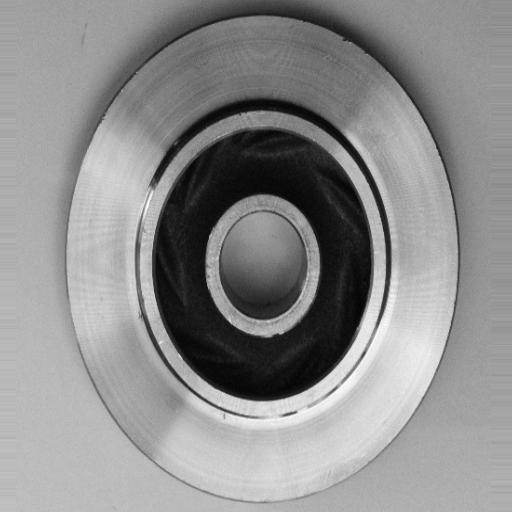unpolished_casting: (62, 11, 462, 501)
